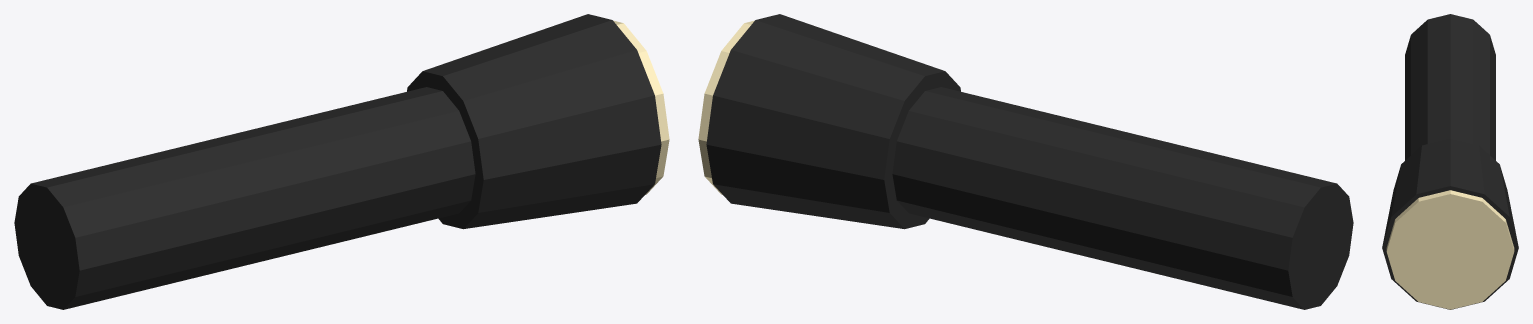
Rendered from flashlight.fbx.
3 renders of one model, left to right at view 1: azimuth 30°, elevation 25°; view 2: azimuth 150°, elevation 25°; view 3: azimuth 270°, elevation 25°, orthographic. The views are drawn at different scales.
Visible parts, largest first — view 1: flashlight; view 2: flashlight; view 3: flashlight.
Boxes of the visible parts, <box> form: flashlight: <box>14,14,669,309</box>; flashlight: <box>698,14,1353,309</box>; flashlight: <box>1382,14,1518,309</box>.
Size of the model in its own units: 0.204 by 0.06 by 0.06.
